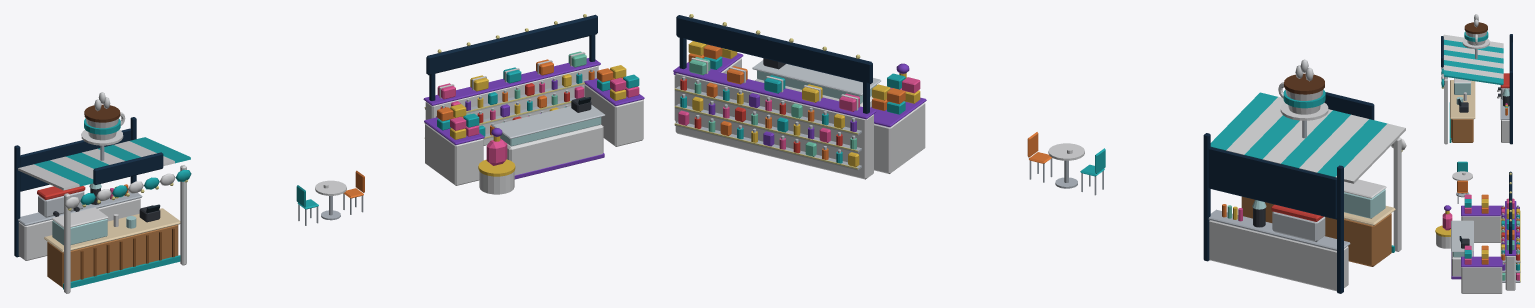
File: skyport-shops.glb
3 renders of one model, left to right at view 1: azimuth 30°, elevation 25°; view 2: azimuth 150°, elevation 25°; view 3: azimuth 270°, elevation 25°, orthographic. The views are drawn at different scales.
Visible parts, largest first — view 1: sp_dutyfree_mesh, sp_cafe_mesh, sp_cafe_cup_mesh, sp_cafetable_mesh, sp_dutyfree_mesh.001, sp_dutyfree_turn_mesh; view 2: sp_cafe_mesh, sp_dutyfree_mesh, sp_cafe_cup_mesh, sp_cafetable_mesh; view 3: sp_dutyfree_mesh, sp_cafe_mesh, sp_cafe_cup_mesh, sp_cafetable_mesh, sp_dutyfree_mesh.001, sp_dutyfree_turn_mesh.
Part boxes in pixels (<box>): sp_dutyfree_mesh: <box>423,14,644,185</box>; sp_cafe_mesh: <box>14,117,191,293</box>; sp_cafe_cup_mesh: <box>81,92,125,160</box>; sp_cafetable_mesh: <box>296,170,364,225</box>; sp_dutyfree_mesh.001: <box>478,159,515,194</box>; sp_dutyfree_turn_mesh: <box>486,128,507,165</box>; sp_cafe_mesh: <box>1203,92,1406,293</box>; sp_dutyfree_mesh: <box>673,14,926,179</box>; sp_cafe_cup_mesh: <box>1278,59,1328,138</box>; sp_cafetable_mesh: <box>1027,132,1105,195</box>; sp_dutyfree_mesh: <box>1451,171,1520,293</box>; sp_cafe_mesh: <box>1441,34,1512,144</box>; sp_cafe_cup_mesh: <box>1462,14,1489,58</box>; sp_cafetable_mesh: <box>1452,161,1472,203</box>; sp_dutyfree_mesh.001: <box>1435,225,1450,248</box>; sp_dutyfree_turn_mesh: <box>1442,205,1452,230</box>.
Size of the model in its own units: 16.36 by 4.47 by 3.1.
